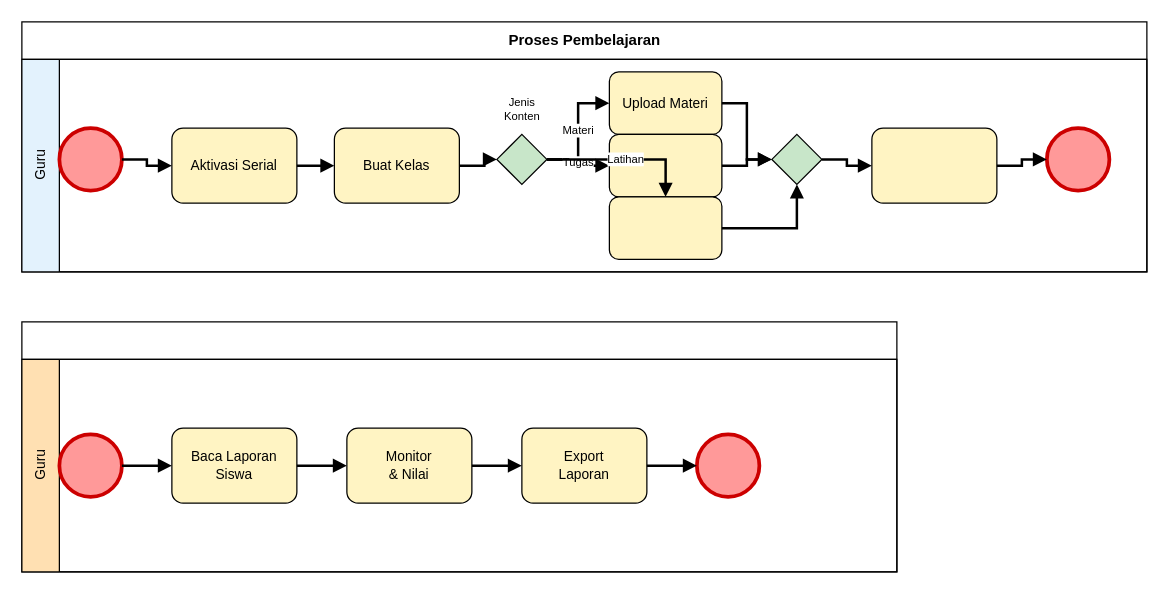
The diagram is 1169 pixels wide and 594 high, and some of its shapes have lost their labels. Each missing label, with the box of its shape:
Buat Latihan: (608, 196, 722, 259)
Buat Tugas: (608, 133, 722, 197)
Kelas Online: (871, 127, 997, 203)
Proses Laporan: (21, 321, 897, 572)
